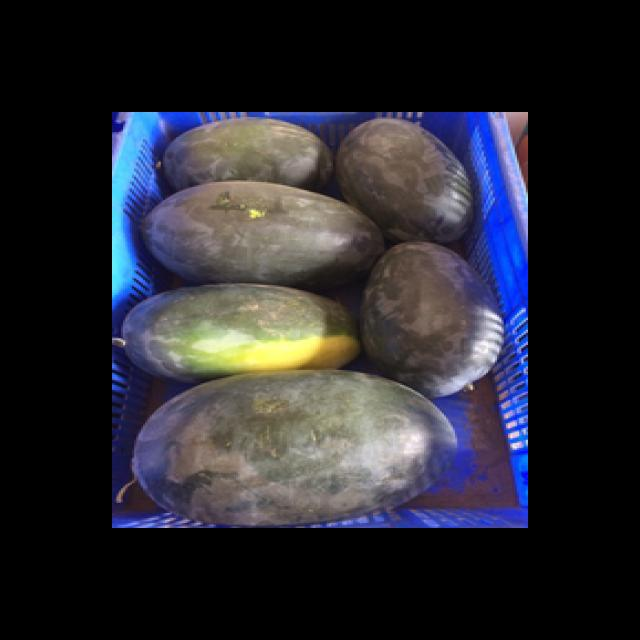watermelon: (131, 367, 460, 526), (141, 181, 386, 293), (122, 282, 364, 387), (358, 239, 506, 400), (336, 118, 476, 245), (160, 116, 334, 191)
